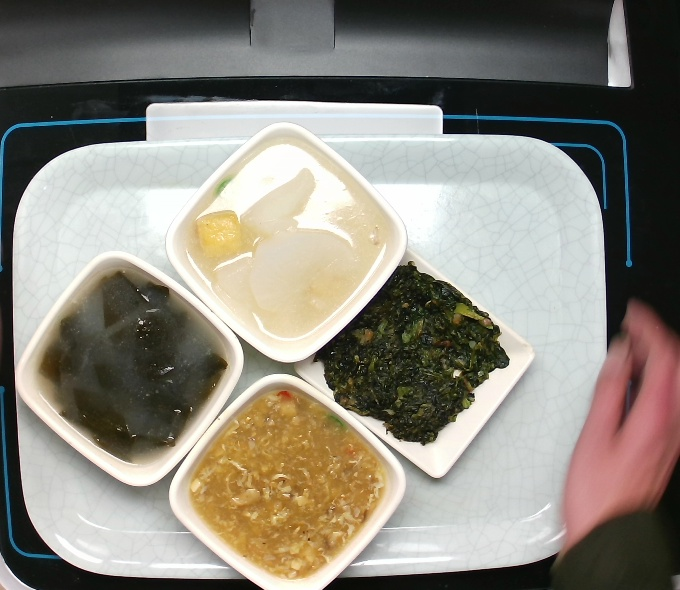wcq-HaiDaiPaiGuTang: (47, 280, 212, 451)
wcq-LuoBoYouPaoTang: (190, 159, 377, 316)
wcq-QinCaiBing: (328, 269, 517, 442)
wcq-SuanLaGeng: (198, 393, 386, 579)
